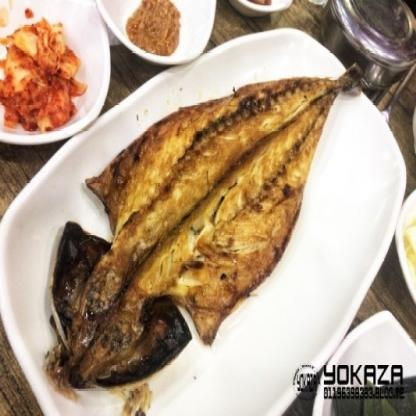Peixe: (23, 61, 362, 403)
